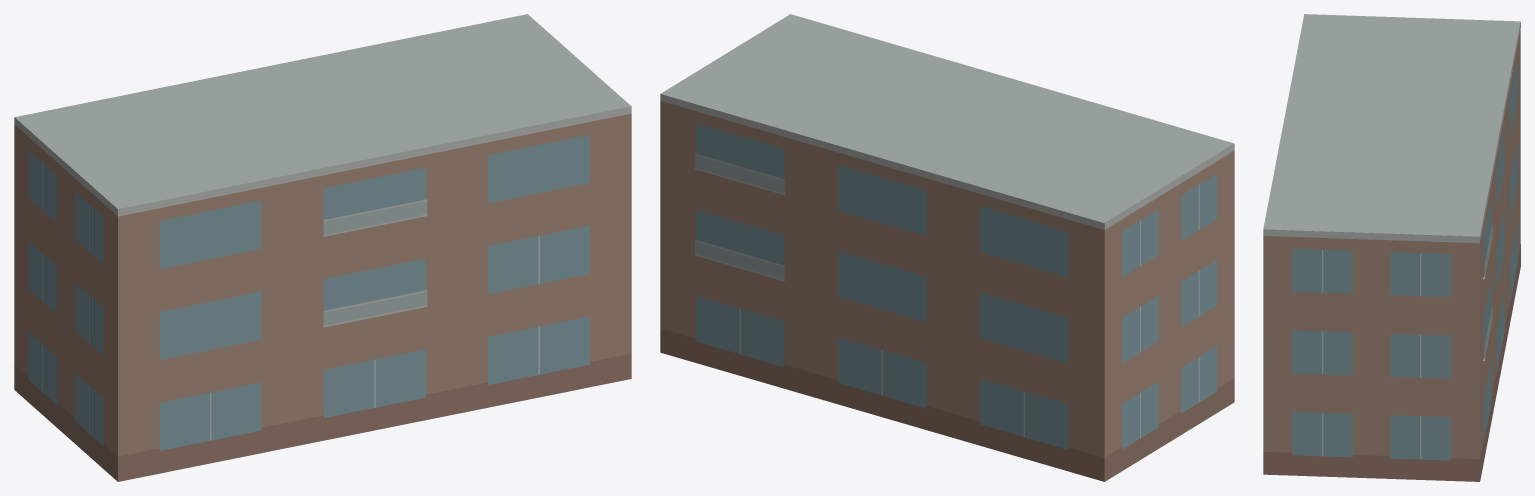
The model's file is survey-upis-32805586.glb.
3 renders of one model, left to right at view 1: azimuth 30°, elevation 25°; view 2: azimuth 150°, elevation 25°; view 3: azimuth 270°, elevation 25°, orthographic. The views are drawn at different scales.
Parts seen in each view (by area): view 1: survey-upis-32805586.tmp; view 2: survey-upis-32805586.tmp; view 3: survey-upis-32805586.tmp.
Part boxes in pixels (x1,y1,x2,y2): survey-upis-32805586.tmp: (14,14,631,481); survey-upis-32805586.tmp: (660,14,1234,481); survey-upis-32805586.tmp: (1263,14,1520,481).
Bounding box in the file's own units: 17.84 × 9.15 × 8.72.
